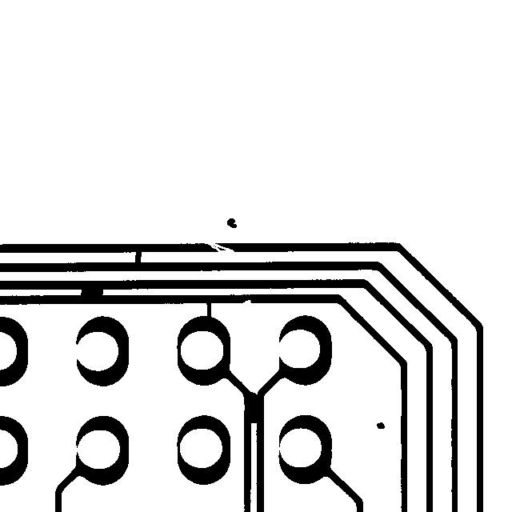copper: (219, 210, 244, 235), (369, 414, 392, 436)
mousebite: (234, 292, 259, 314)
open: (194, 233, 242, 260)
short: (239, 384, 270, 430), (73, 278, 110, 306), (127, 238, 149, 273), (198, 293, 219, 327)
